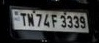3: (66, 15, 74, 29), (73, 15, 80, 29), (60, 15, 67, 28)
4: (43, 13, 51, 28)
7: (35, 13, 43, 28)
9: (79, 15, 86, 29)
F: (50, 14, 58, 28)
N: (27, 13, 35, 28)
T: (20, 12, 27, 27)
